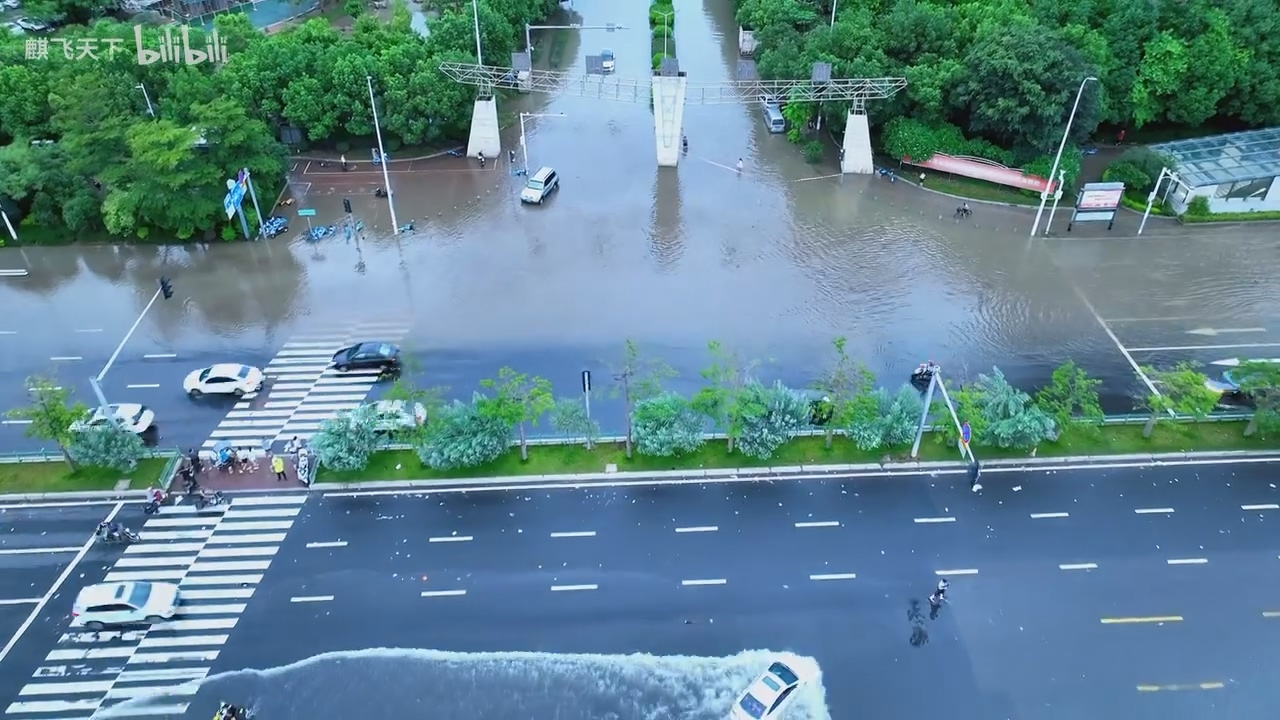puddle: (25, 221, 1263, 357)
